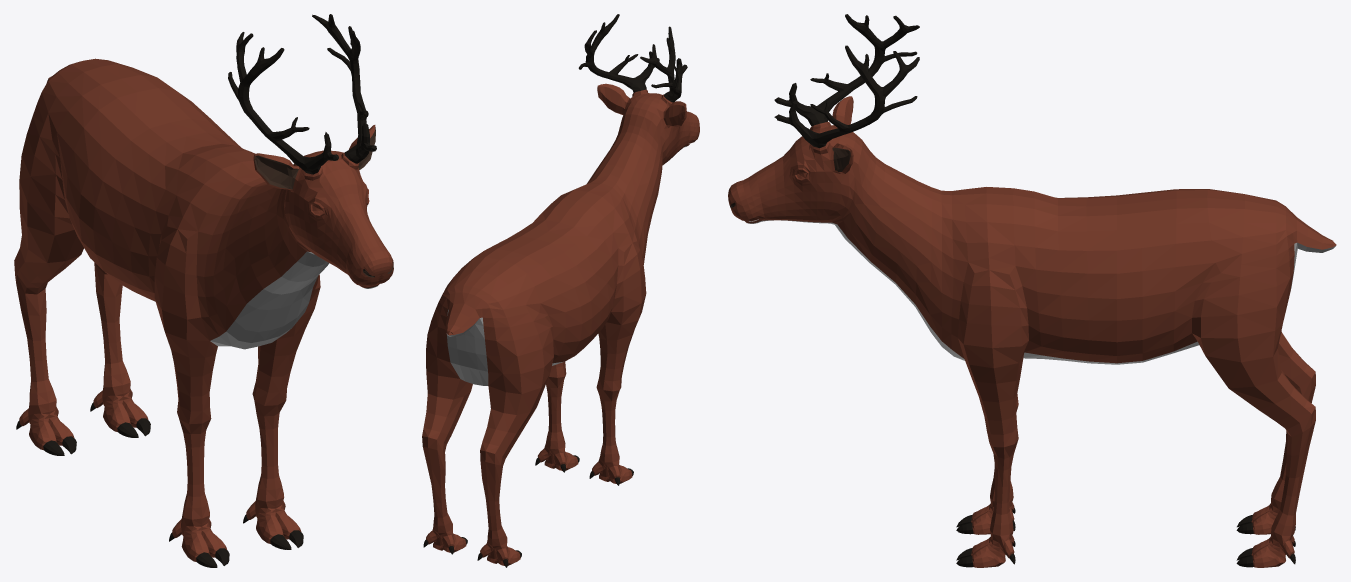
The model's file is reindeer_reindeer.obj.
3 renders of one model, left to right at view 1: azimuth 30°, elevation 25°; view 2: azimuth 150°, elevation 25°; view 3: azimuth 270°, elevation 25°, orthographic. The views are drawn at different scales.
Size of the model in its own units: 0.5684 by 1.98 by 2.12.
